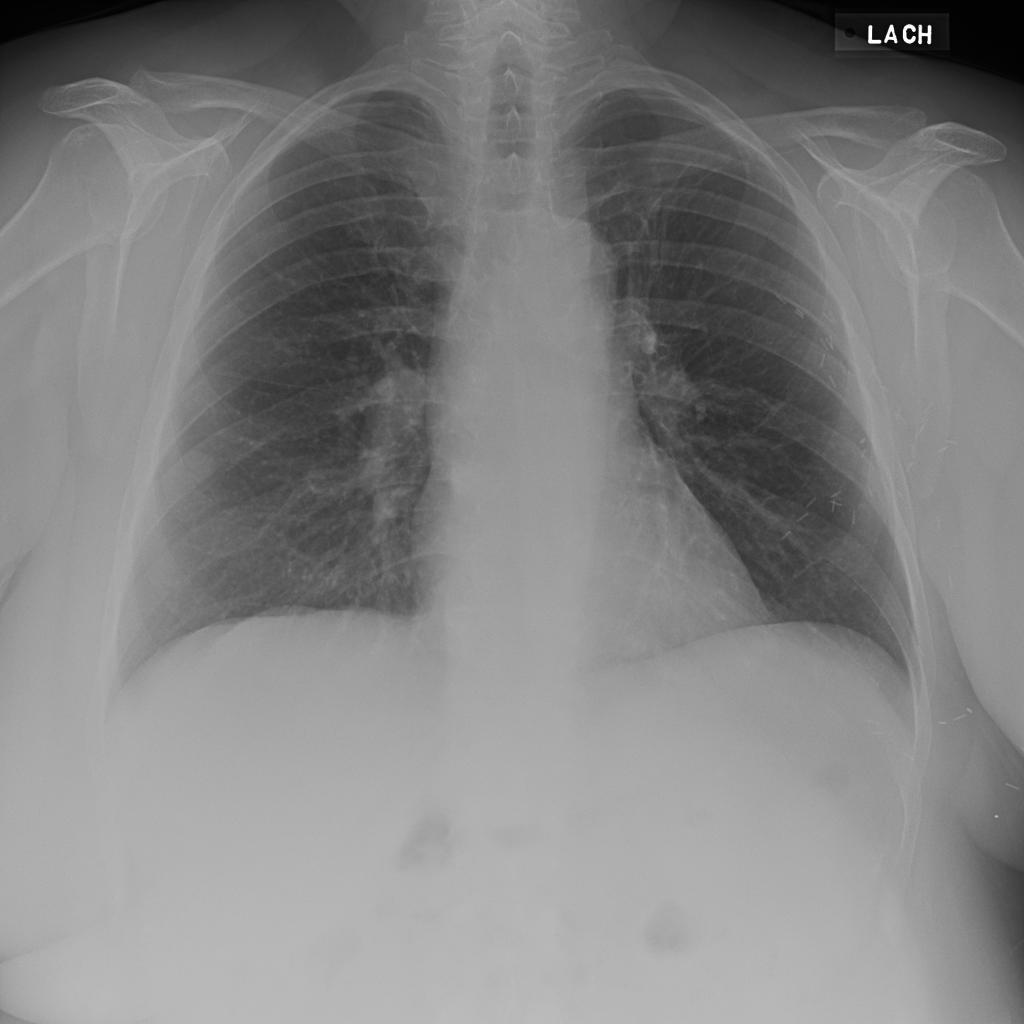Nodule: (91, 225, 122, 253)
